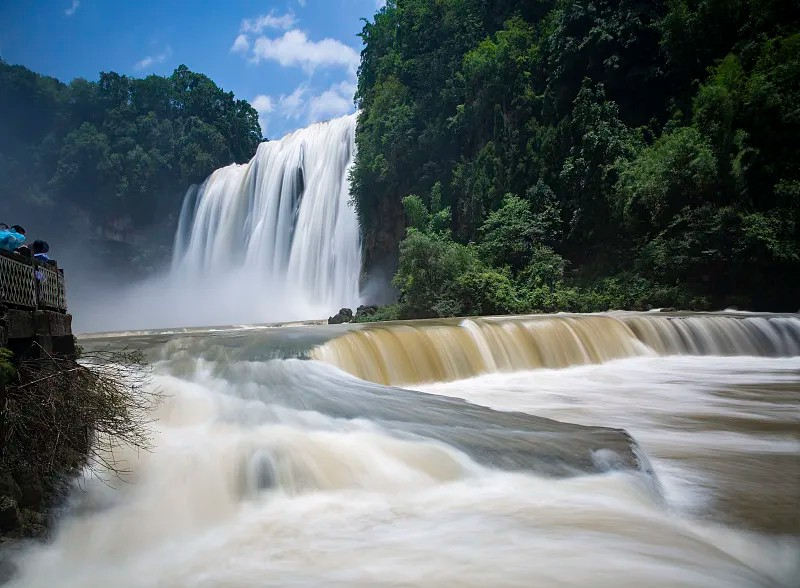Huangguoshu: (161, 111, 360, 323)
